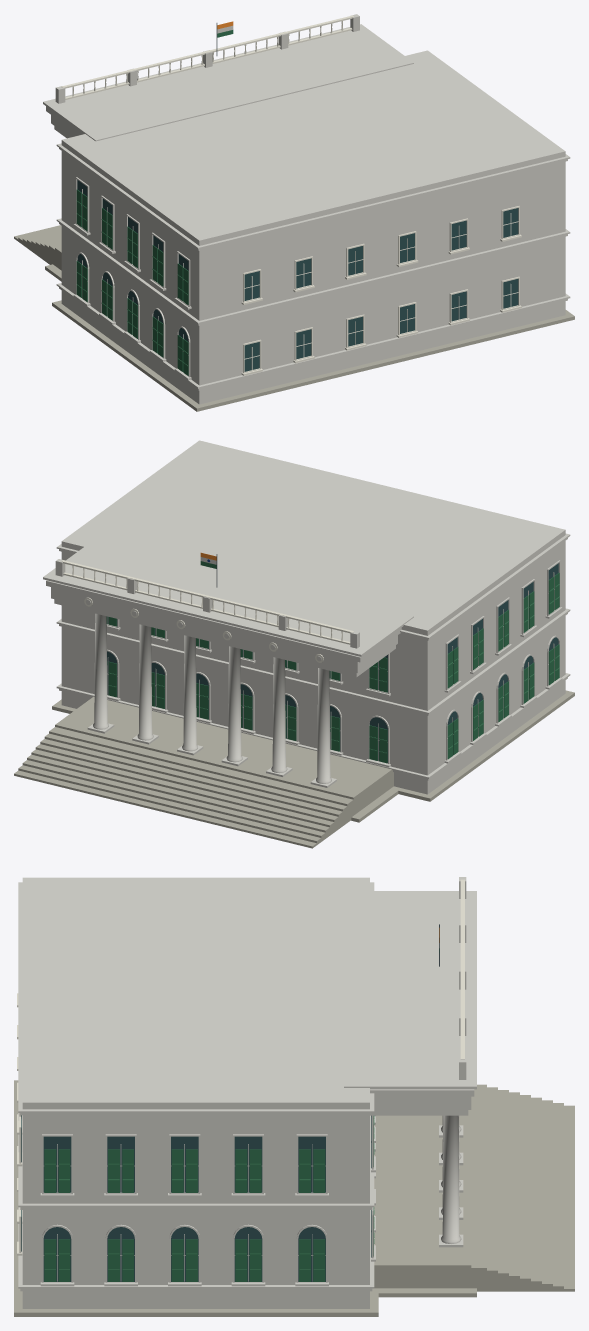
Rendered from TH_town_hall_Roblox.fbx.
The picture shows the model from 3 angles, top to bottom: view 1: azimuth 30°, elevation 25°; view 2: azimuth 150°, elevation 25°; view 3: azimuth 270°, elevation 25°; orthographic projection. The views are drawn at different scales.
Parts seen in each view (by area): view 1: TH_MainEnvelope__White_RBX, TH_SixColumnPortico__White_RBX, TH_CorniceBands__White_RBX, TH_Foundation__Stone_RBX, TH_RoofBalustradeAndFlag__Ivory_RBX, TH_RoofBalustradeAndFlag__White_RBX, TH_RearWindow_4__Glass_RBX, TH_RearWindow_1__Glass_RBX, TH_RearWindow_0__Glass_RBX, TH_RearWindow_5__Glass_RBX, TH_SideBay_-1_3__Green_RBX, TH_SideBay_-1_4__Green_RBX (+16 smaller); view 2: TH_MainEnvelope__White_RBX, TH_SixColumnPortico__White_RBX, TH_PorticoLanding__Stone_RBX, TH_CorniceBands__White_RBX, TH_EntranceStep_8__Stone_RBX, TH_RoofBalustradeAndFlag__Ivory_RBX, TH_EntranceStep_7__Stone_RBX, TH_EntranceStep_6__Stone_RBX, TH_EntranceStep_5__Stone_RBX, TH_EntranceStep_4__Stone_RBX, TH_EntranceStep_3__Stone_RBX, TH_EntranceStep_2__Stone_RBX (+18 smaller); view 3: TH_MainEnvelope__White_RBX, TH_SixColumnPortico__White_RBX, TH_PorticoLanding__Stone_RBX, TH_CorniceBands__White_RBX, TH_Foundation__Stone_RBX, TH_EntranceStep_8__Stone_RBX, TH_EntranceStep_6__Stone_RBX, TH_EntranceStep_7__Stone_RBX, TH_EntranceStep_5__Stone_RBX, TH_SideBay_1_1__Green_RBX, TH_SideBay_1_4__Green_RBX, TH_EntranceStep_4__Stone_RBX (+19 smaller).
Boxes of the visible parts, x1,y1,x2,y2 form: TH_MainEnvelope__White_RBX: (61,50,565,404); TH_SixColumnPortico__White_RBX: (43,24,413,141); TH_CorniceBands__White_RBX: (56,143,570,390); TH_Foundation__Stone_RBX: (52,300,574,411); TH_RoofBalustradeAndFlag__Ivory_RBX: (61,15,354,99); TH_RoofBalustradeAndFlag__White_RBX: (55,14,359,103); TH_RearWindow_4__Glass_RBX: (451,220,466,321); TH_RearWindow_1__Glass_RBX: (296,258,311,359); TH_RearWindow_0__Glass_RBX: (244,271,259,371); TH_RearWindow_5__Glass_RBX: (503,208,518,308); TH_SideBay_-1_3__Green_RBX: (152,245,163,357); TH_SideBay_-1_4__Green_RBX: (177,263,188,375); TH_MainEnvelope__White_RBX: (61,440,565,794); TH_SixColumnPortico__White_RBX: (43,538,413,787); TH_PorticoLanding__Stone_RBX: (55,696,393,814); TH_CorniceBands__White_RBX: (56,533,570,781); TH_EntranceStep_8__Stone_RBX: (49,727,353,820); TH_RoofBalustradeAndFlag__Ivory_RBX: (61,560,354,644); TH_EntranceStep_7__Stone_RBX: (44,733,349,825); TH_EntranceStep_6__Stone_RBX: (40,739,344,827); TH_EntranceStep_5__Stone_RBX: (35,744,340,830); TH_EntranceStep_4__Stone_RBX: (31,749,336,833); TH_EntranceStep_3__Stone_RBX: (27,754,331,838); TH_EntranceStep_2__Stone_RBX: (22,760,327,841); TH_MainEnvelope__White_RBX: (22,877,369,1308); TH_SixColumnPortico__White_RBX: (344,891,476,1247); TH_PorticoLanding__Stone_RBX: (374,1110,471,1288); TH_CorniceBands__White_RBX: (18,882,374,1292); TH_Foundation__Stone_RBX: (14,1080,378,1316); TH_EntranceStep_8__Stone_RBX: (470,1084,486,1291); TH_EntranceStep_6__Stone_RBX: (492,1090,508,1291); TH_EntranceStep_7__Stone_RBX: (481,1087,497,1291); TH_EntranceStep_5__Stone_RBX: (503,1092,519,1291); TH_SideBay_1_1__Green_RBX: (235,1149,261,1281); TH_SideBay_1_4__Green_RBX: (44,1149,70,1281); TH_EntranceStep_4__Stone_RBX: (514,1095,530,1291).
Size of the model in its own units: 95 by 52.65 by 96.9.
